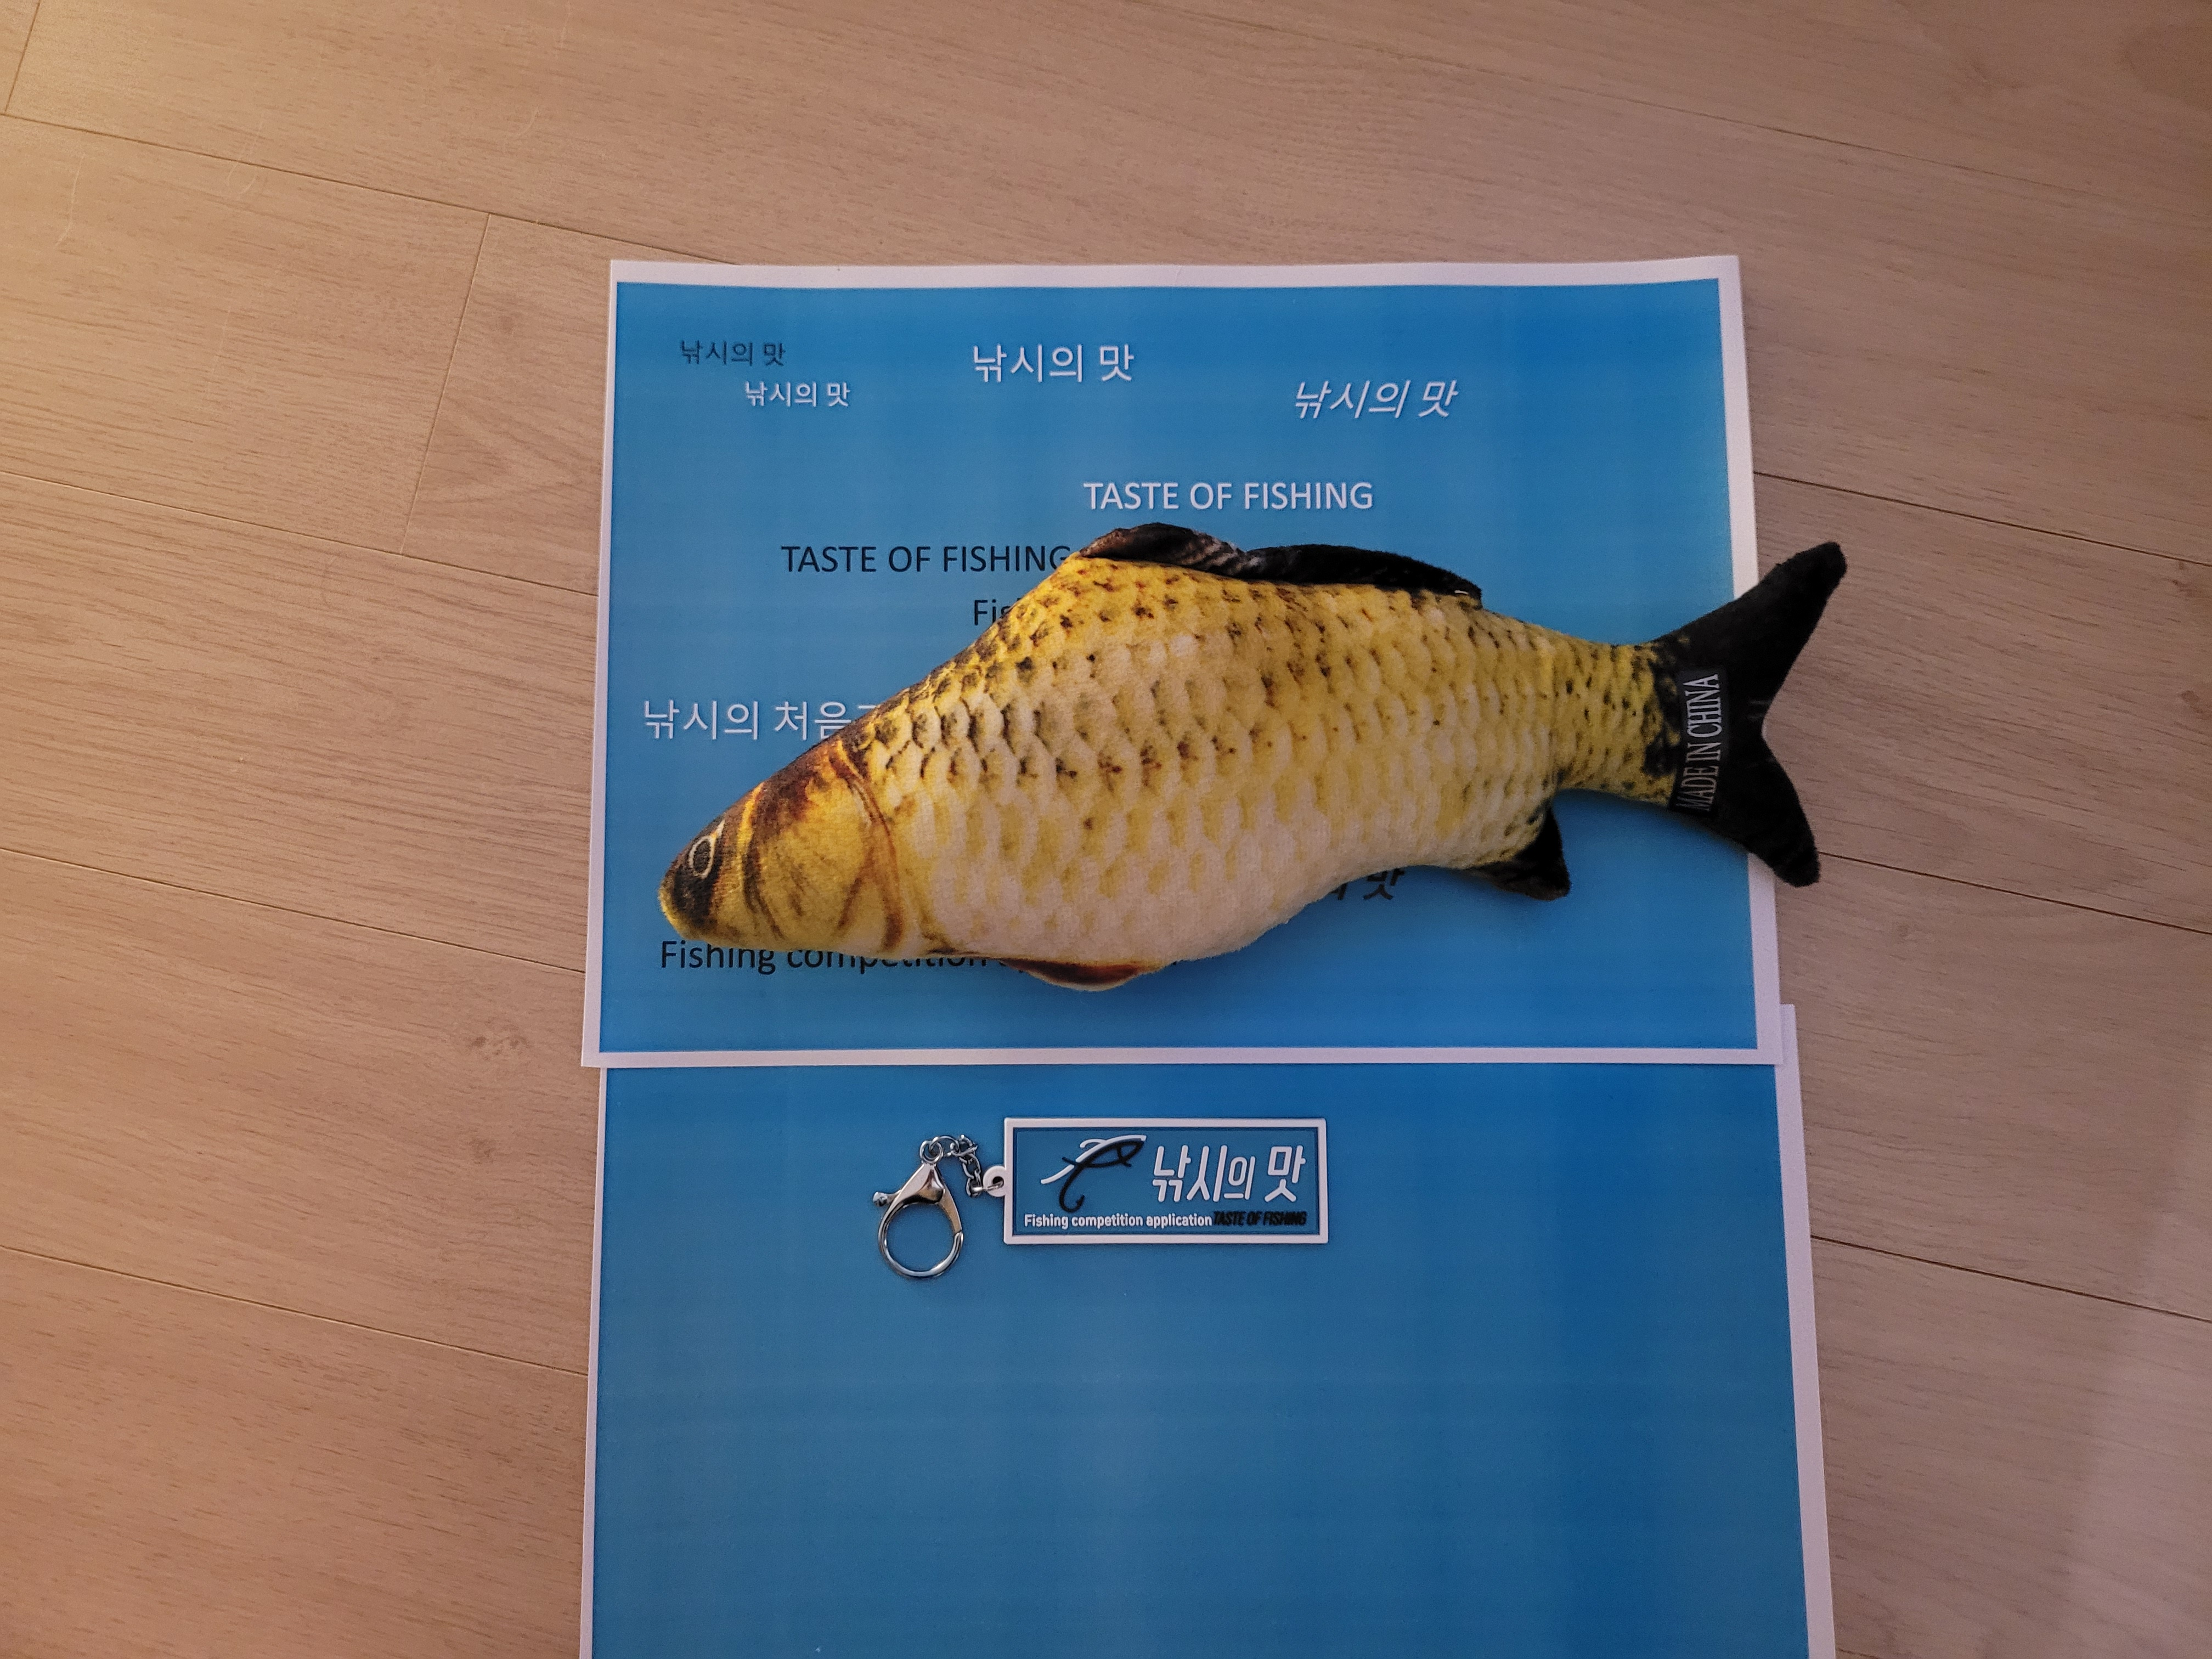fish: (662, 526, 1850, 997)
tag: (1003, 1117, 1327, 1244)
